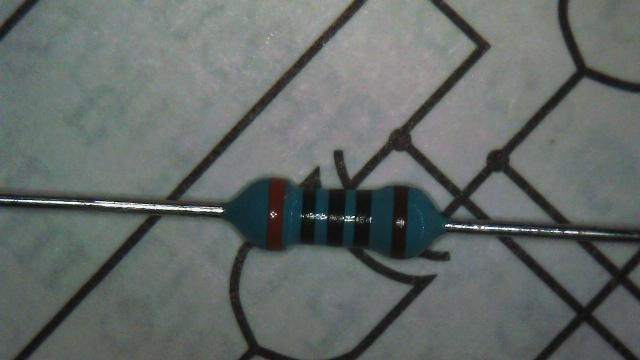black: (326, 189, 346, 246), (354, 190, 372, 248), (300, 188, 316, 244)
brown: (390, 186, 408, 258)
orange: (267, 178, 286, 249)
resistor: (225, 168, 450, 266)
